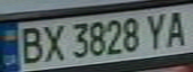2: (103, 16, 127, 56)
3: (66, 19, 90, 60)
8: (121, 15, 145, 53), (87, 18, 109, 57)
A: (160, 7, 193, 48)
B: (15, 24, 48, 65)
X: (39, 21, 69, 63)
Y: (142, 10, 172, 51)
